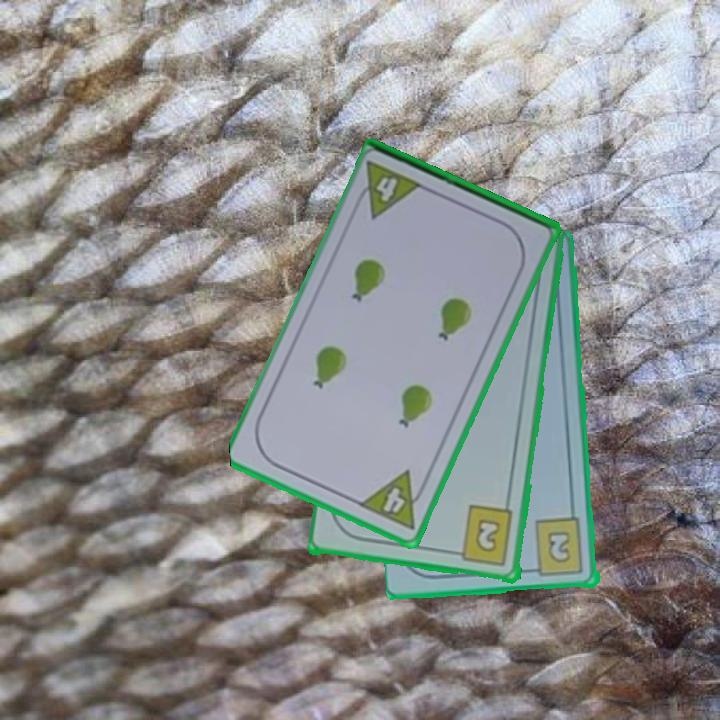2b: (449, 503, 516, 569), (525, 515, 587, 579)
4p: (355, 467, 432, 533), (350, 157, 427, 222)
